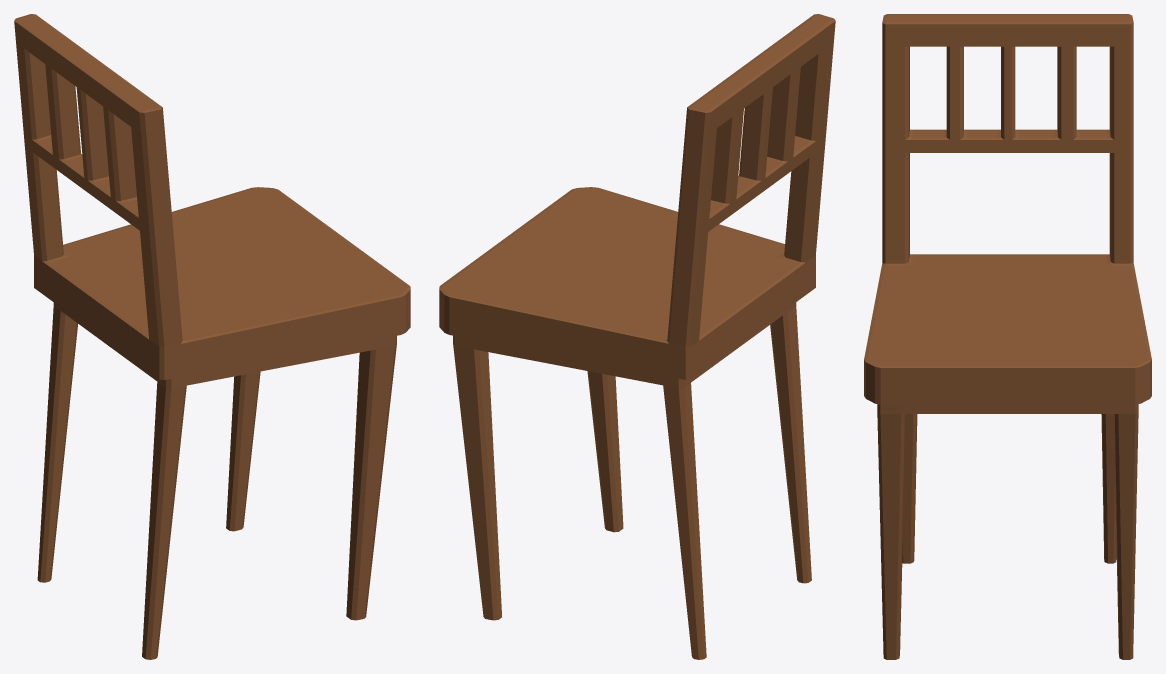
Rendered from chair.fbx.
3 renders of one model, left to right at view 1: azimuth 30°, elevation 25°; view 2: azimuth 150°, elevation 25°; view 3: azimuth 270°, elevation 25°, orthographic. The views are drawn at different scales.
Visible parts, largest first — view 1: Cube; view 2: Cube; view 3: Cube.
Part boxes in pixels (box(x1,y1,x2,y2)): Cube: box(14, 14, 410, 659); Cube: box(439, 14, 835, 659); Cube: box(864, 14, 1151, 659).
Size of the model in its own units: 240 by 481 by 232.
